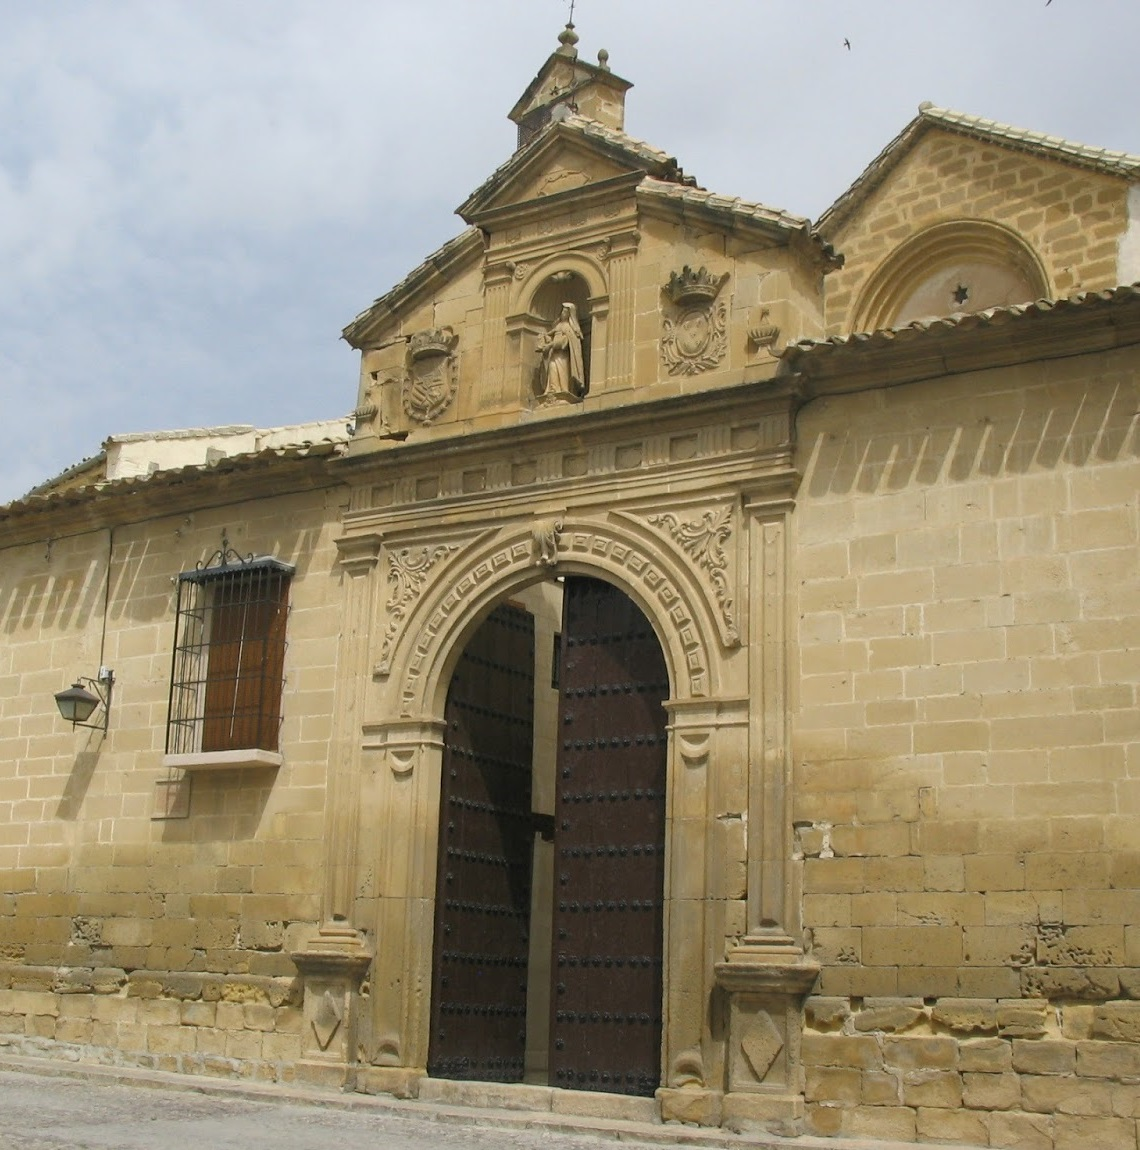arco-medio-punto: (415, 547, 687, 753)
fronton: (459, 119, 663, 224)
